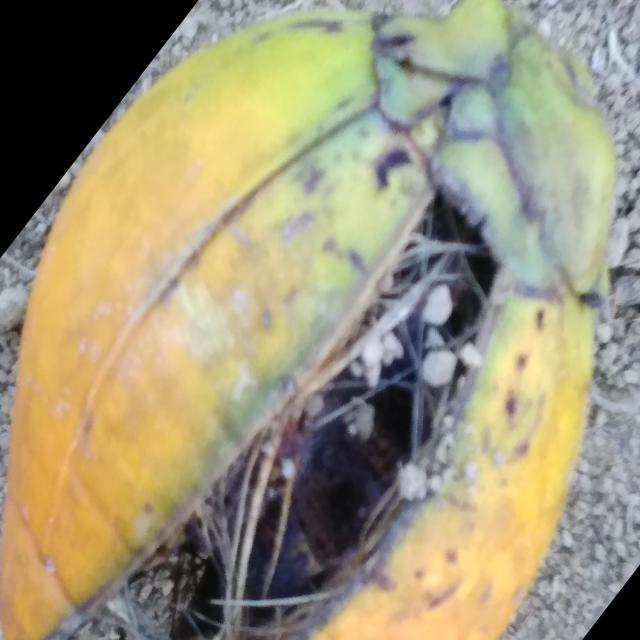damaged: (0, 0, 616, 640)
